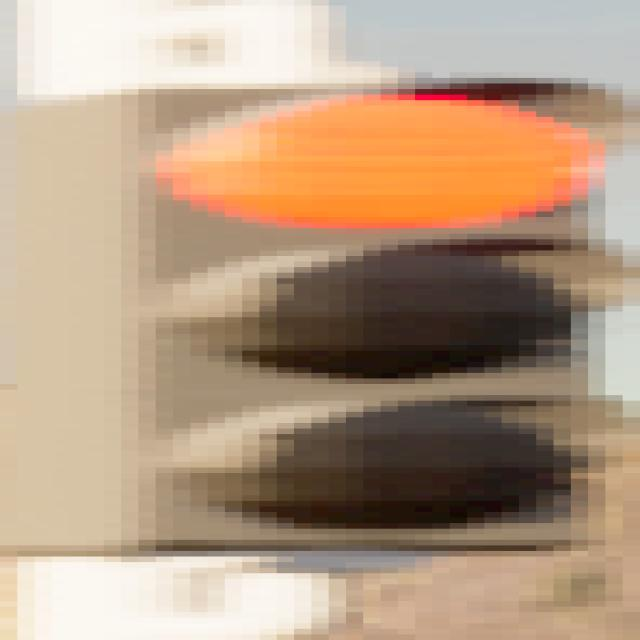red_light: (1, 49, 640, 577)
